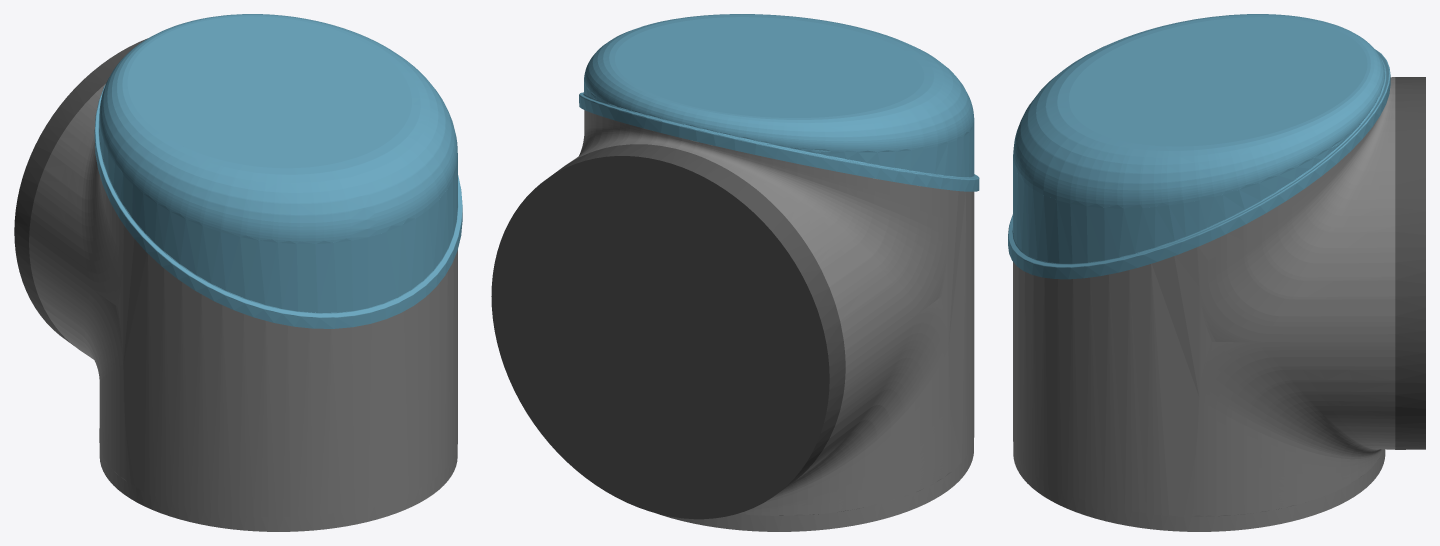
The model's file is Shoulder.dae.
3 views of the same model, side by side, from view 1: azimuth 30°, elevation 25°; view 2: azimuth 150°, elevation 25°; view 3: azimuth 270°, elevation 25° (orthographic). The views are drawn at different scales.
Visible parts, largest first — view 1: node1, node0; view 2: node1, node0; view 3: node1, node0.
Part boxes in pixels (<box>): node1: <box>14,38,457,531</box>; node0: <box>94,14,462,328</box>; node1: <box>491,110,974,531</box>; node0: <box>579,14,979,191</box>; node1: <box>1013,77,1425,531</box>; node0: <box>1008,14,1390,279</box>.
Size of the model in its own units: 0.119 by 0.13 by 0.1337.
